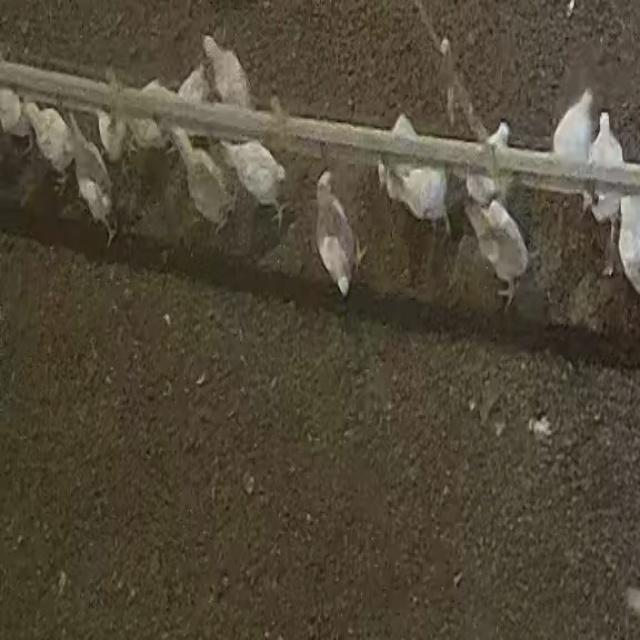chicken: (459, 186, 531, 318), (306, 169, 372, 301), (66, 107, 122, 251), (172, 127, 238, 245), (220, 135, 294, 235), (587, 108, 625, 234)
